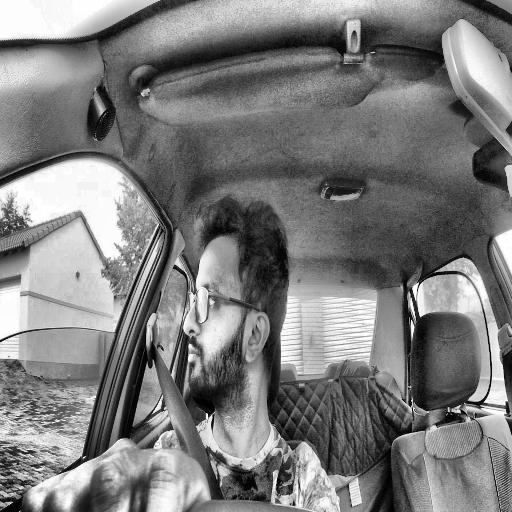awake: (184, 197, 291, 403)
